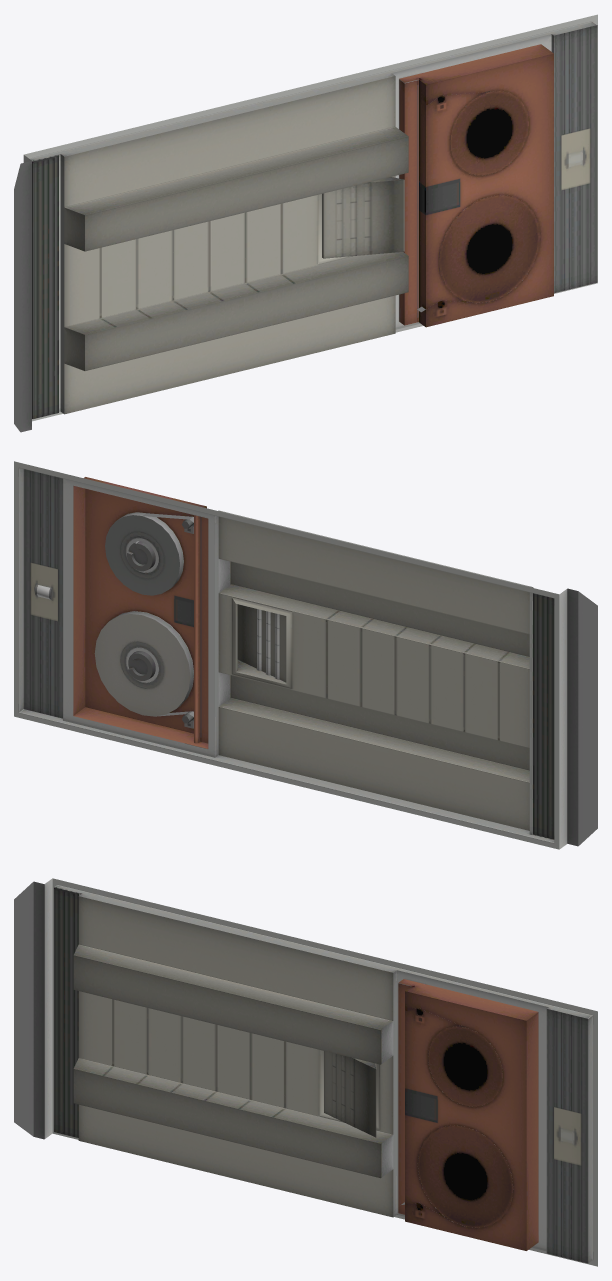
File: props_spytech_computer_wall.glb
3 views of the same model, one above another, from view 1: azimuth 30°, elevation 25°; view 2: azimuth 150°, elevation 25°; view 3: azimuth 330°, elevation 25° (orthographic). The views are drawn at different scales.
Parts seen in each view (by area): view 1: models/props_spytech/computer_wall; view 2: models/props_spytech/computer_wall; view 3: models/props_spytech/computer_wall.
Boxes of the visible parts, left/top/right/bottom form: models/props_spytech/computer_wall: left=14, top=14, right=597, bottom=432; models/props_spytech/computer_wall: left=14, top=461, right=597, bottom=849; models/props_spytech/computer_wall: left=14, top=878, right=597, bottom=1266.
Size of the model in its own units: 112 by 48 by 6.49.
Materials: 1 (1 with a texture image).
